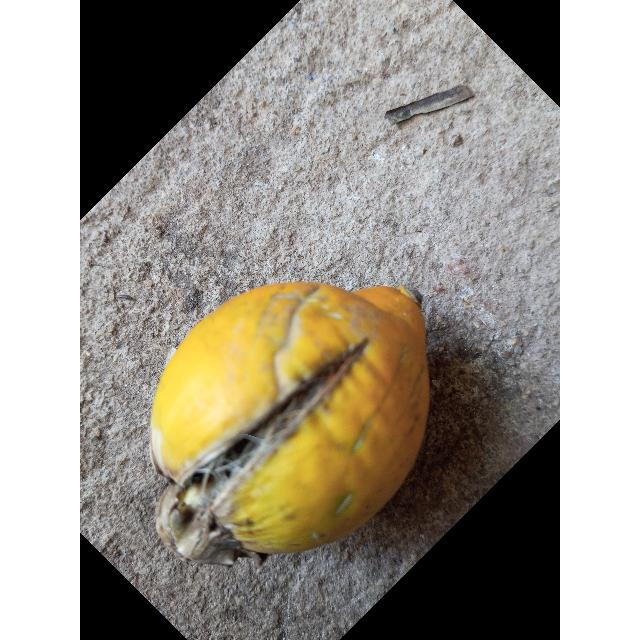damaged: (151, 282, 429, 565)
